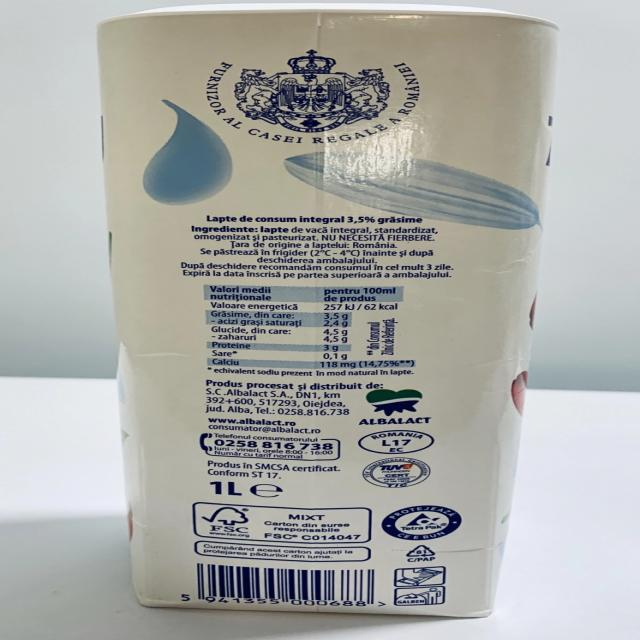milk: (103, 2, 555, 618)
